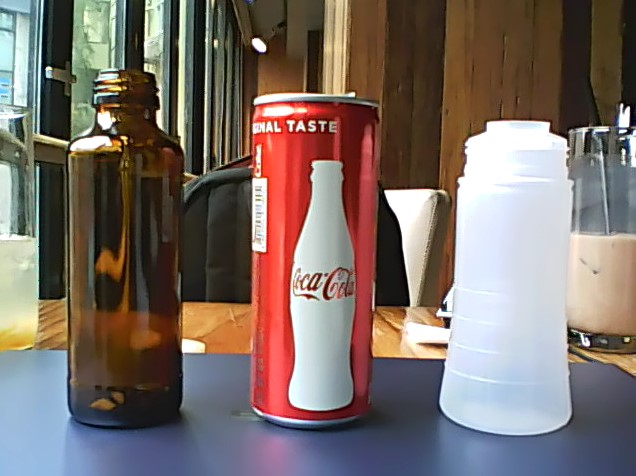Can: (241, 85, 385, 436)
Glass: (56, 63, 187, 435)
Plastic: (434, 112, 579, 441)
